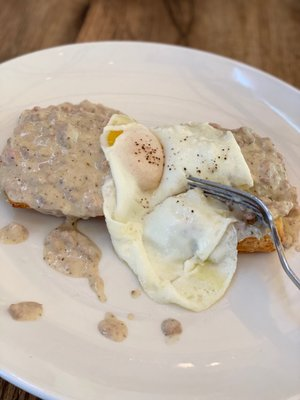salad: (187, 176, 300, 294)
